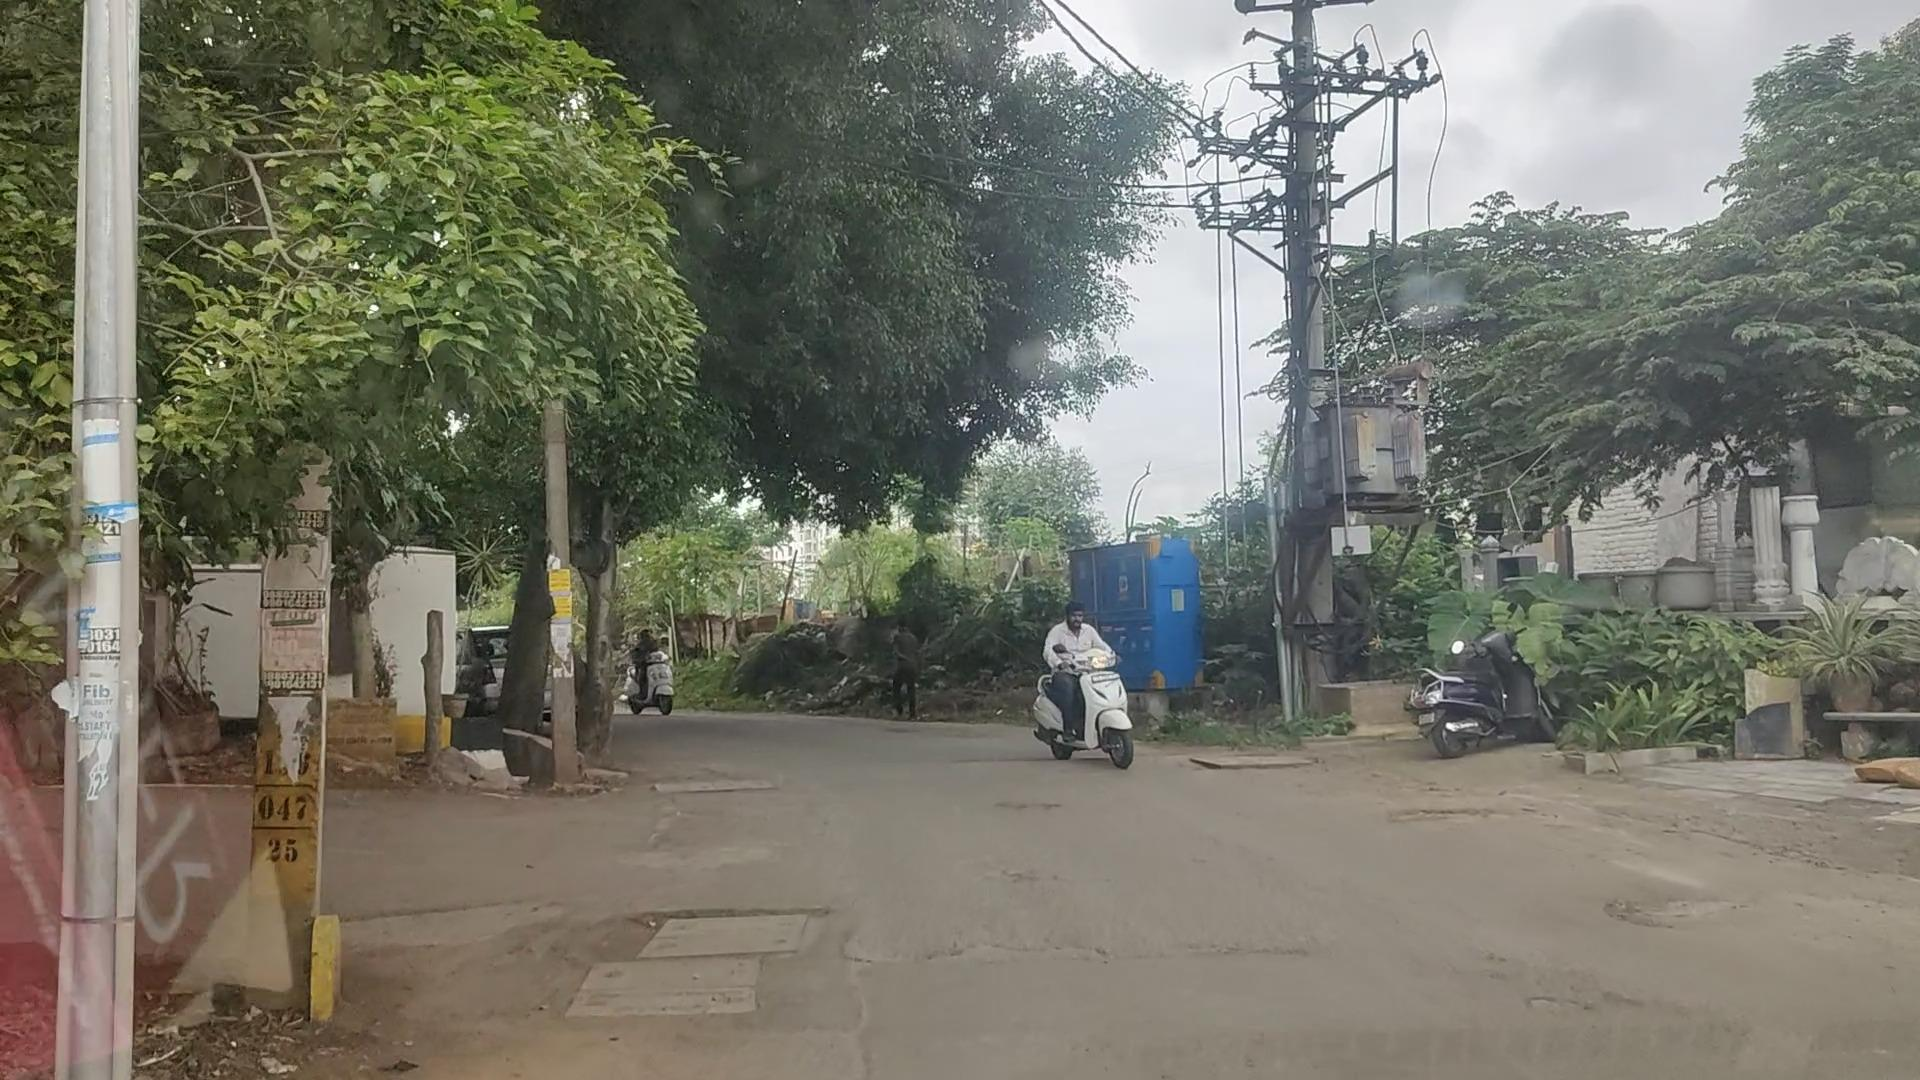LMV: (1042, 608, 1141, 767)
RoadDamages: (568, 885, 832, 1030)
